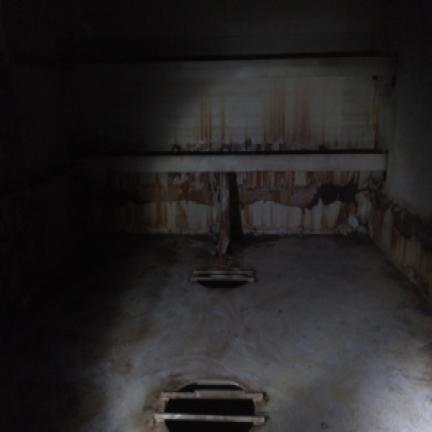besi_tidak_karat: (0, 235, 431, 431), (70, 60, 376, 151), (79, 153, 387, 171)
karat: (236, 171, 371, 232), (93, 171, 217, 232), (369, 192, 431, 305), (228, 173, 242, 244), (244, 138, 251, 150), (220, 144, 231, 151), (171, 144, 181, 151), (265, 143, 271, 151)
